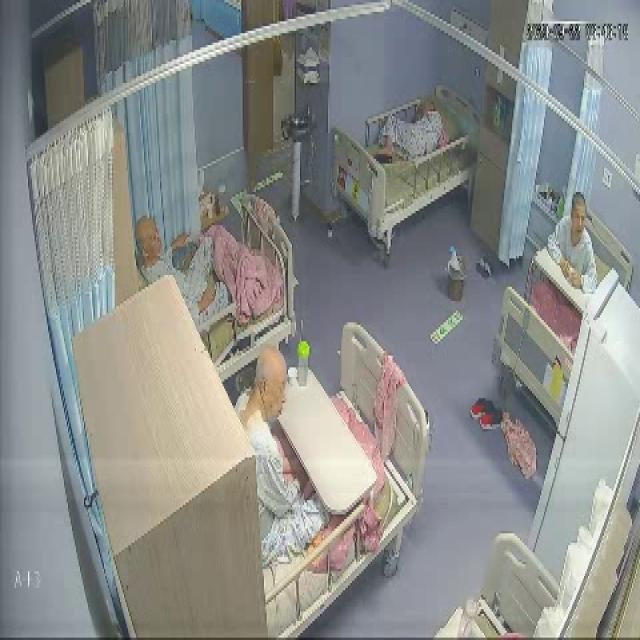bed: (232, 327, 428, 640), (493, 210, 632, 425), (162, 200, 294, 384), (336, 82, 478, 240)
lie: (374, 95, 452, 161)
patient: (236, 350, 330, 564), (136, 216, 218, 334), (548, 186, 598, 294), (374, 96, 452, 162)
sit: (234, 350, 330, 564), (136, 217, 262, 333), (549, 188, 598, 294)
